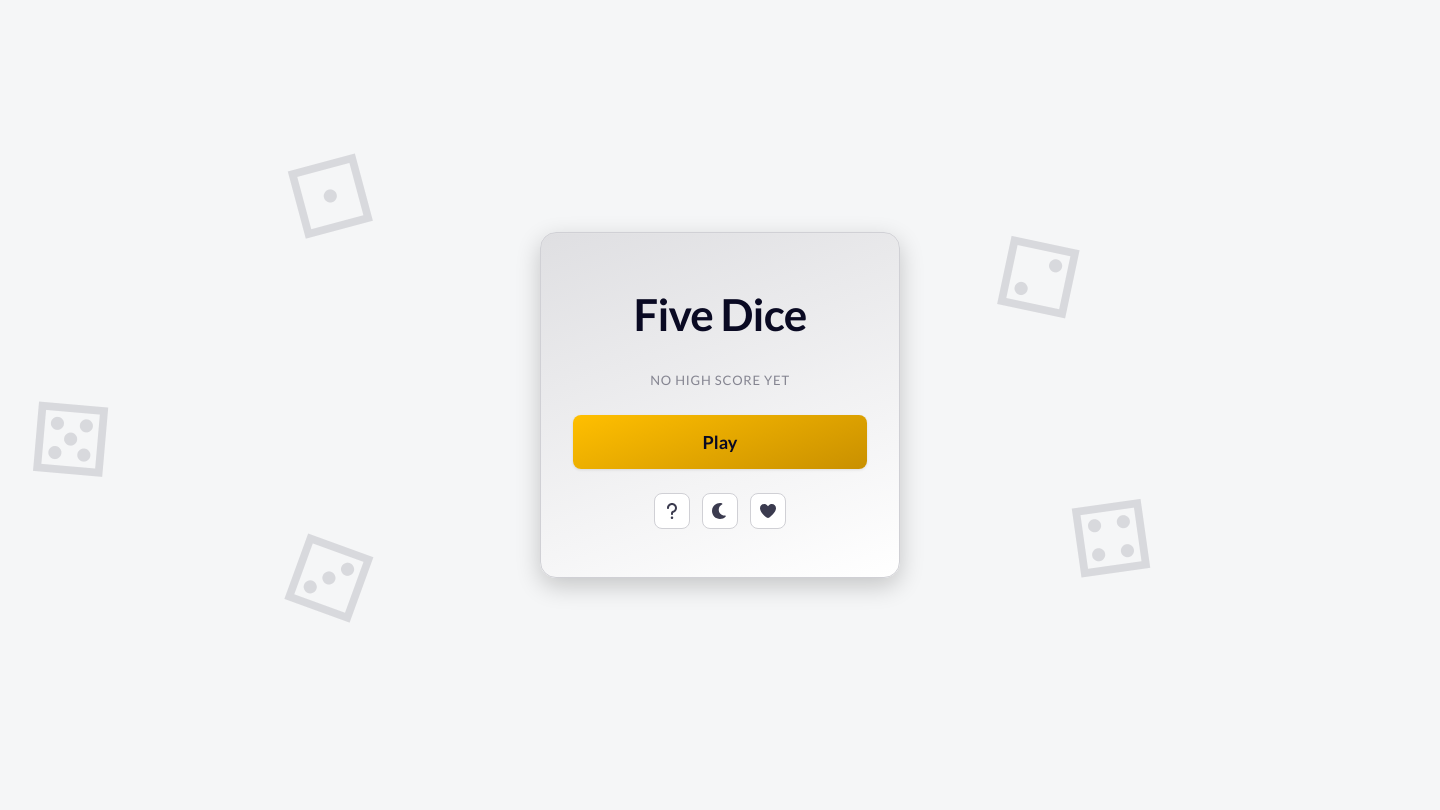
HomeScreen › clicking Play transitions to the play screen
Click the button "Play" at (720, 442), box [573,415,867,469]
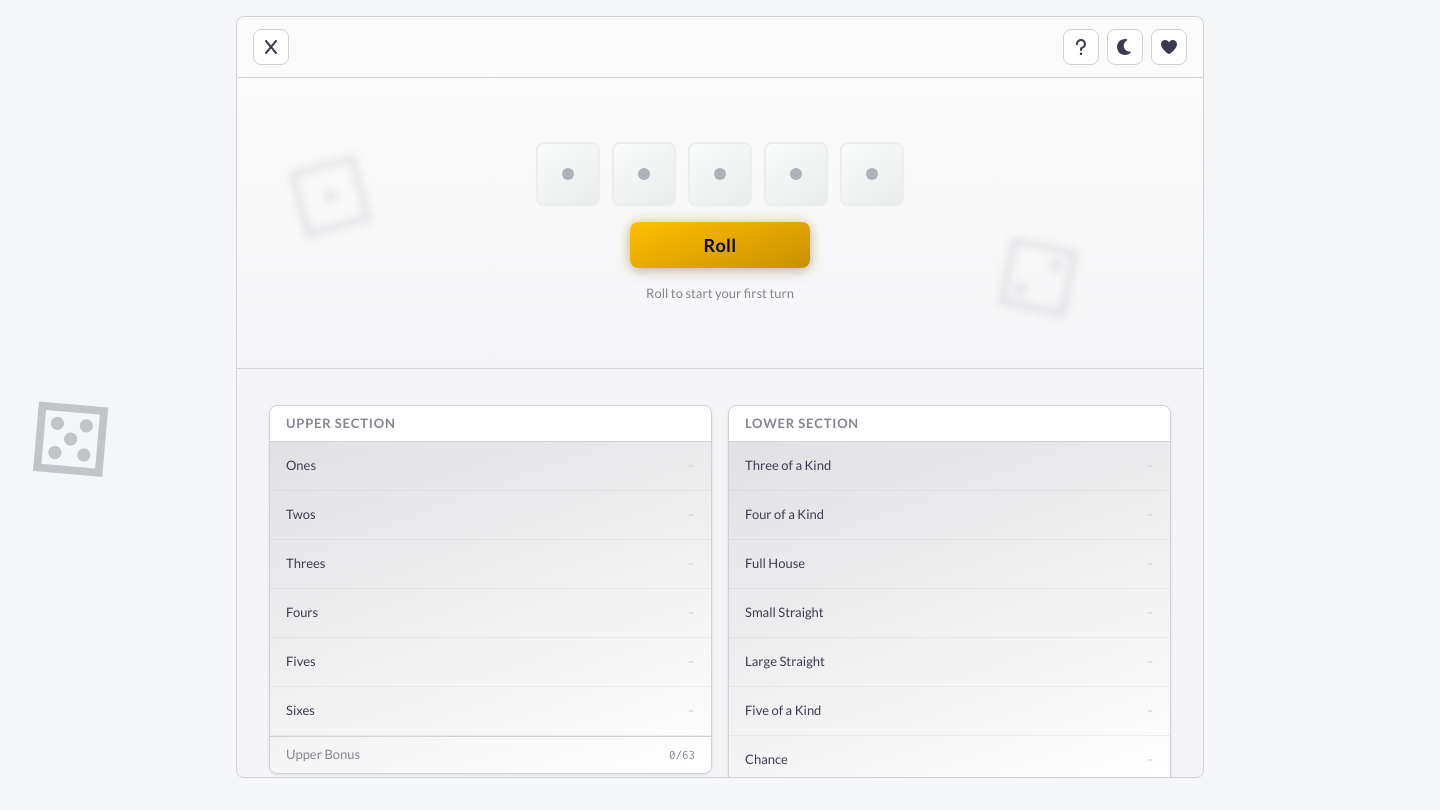
Now the button "Roll" is shown, box [630,222,810,268]
